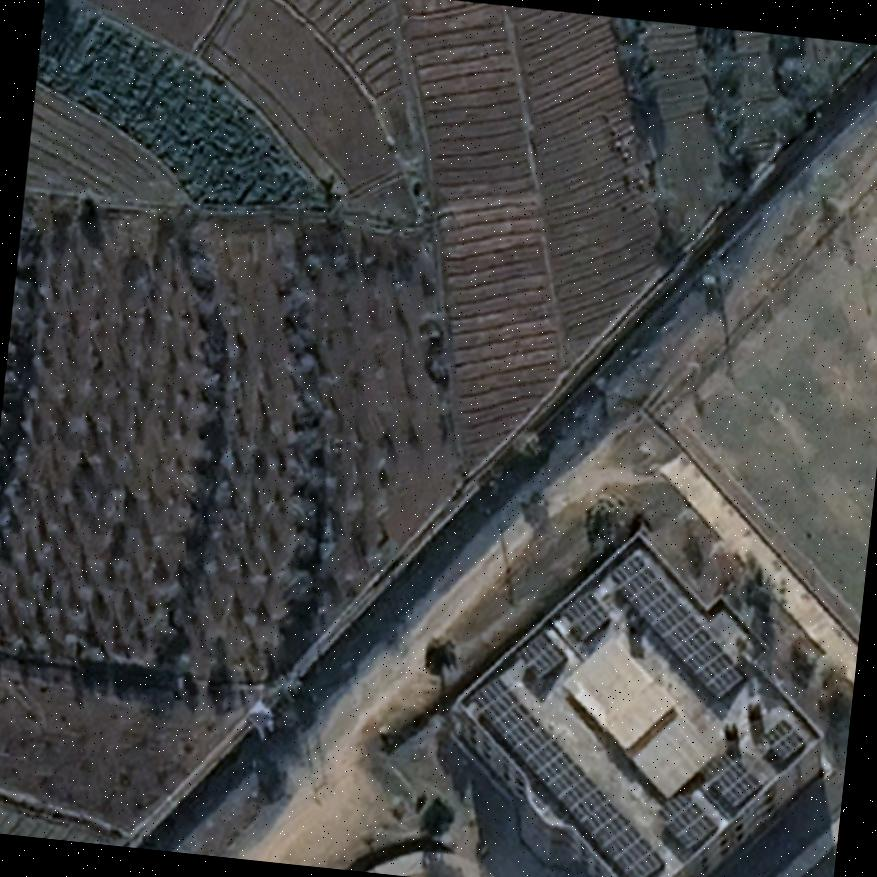Solarpanel: (458, 669, 670, 877), (602, 545, 747, 704), (654, 786, 717, 849), (702, 753, 765, 811), (555, 587, 611, 644), (510, 629, 567, 682), (758, 715, 810, 766)
